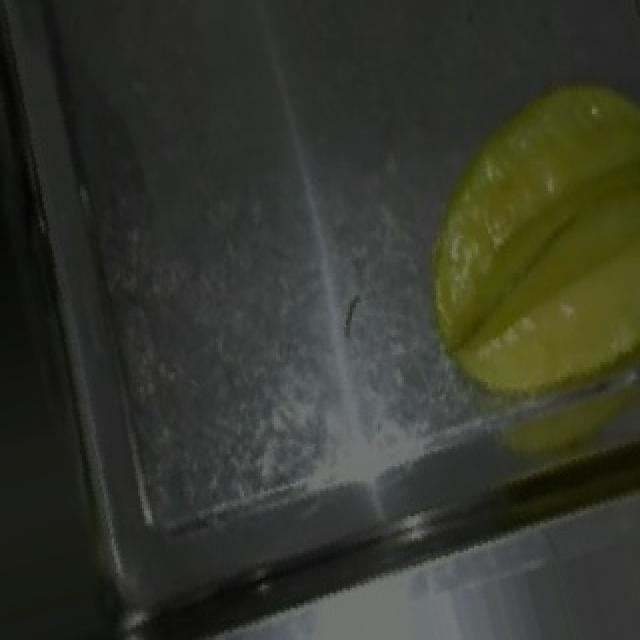fruit: (402, 52, 640, 437)
